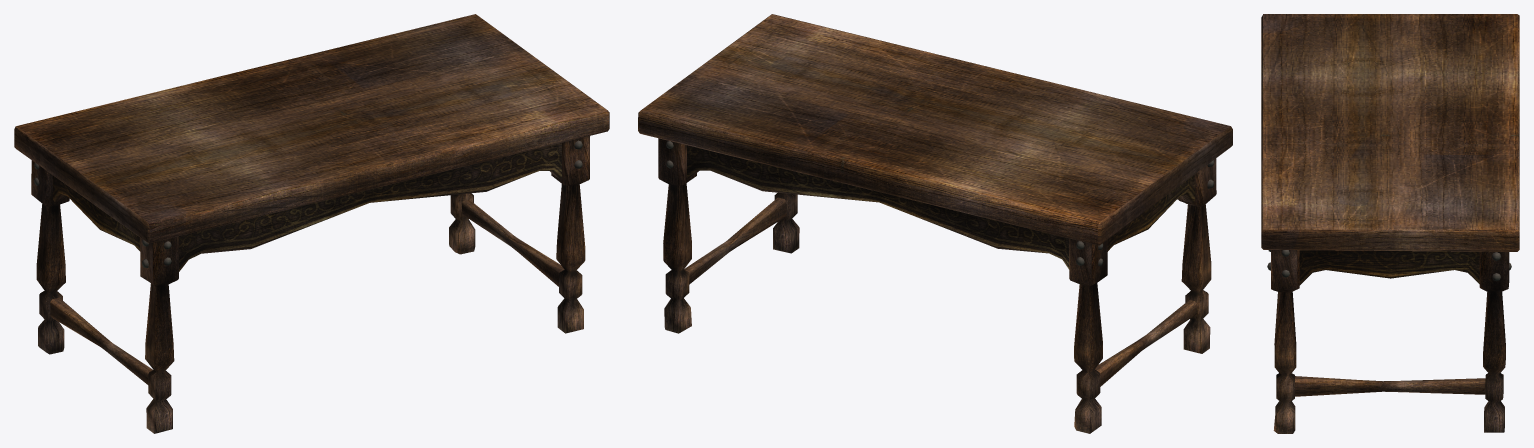
The model's file is Dinner_table.obj.
3 views of the same model, side by side, from view 1: azimuth 30°, elevation 25°; view 2: azimuth 150°, elevation 25°; view 3: azimuth 270°, elevation 25° (orthographic). The views are drawn at different scales.
Visible parts, largest first — view 1: Dinner_table; view 2: Dinner_table; view 3: Dinner_table.
Part boxes in pixels (x1,y1,x2,y2): Dinner_table: (14,14,609,433); Dinner_table: (638,14,1232,433); Dinner_table: (1261,14,1519,433).
Bounding box in the file's own units: 213 × 96.87 × 107.
